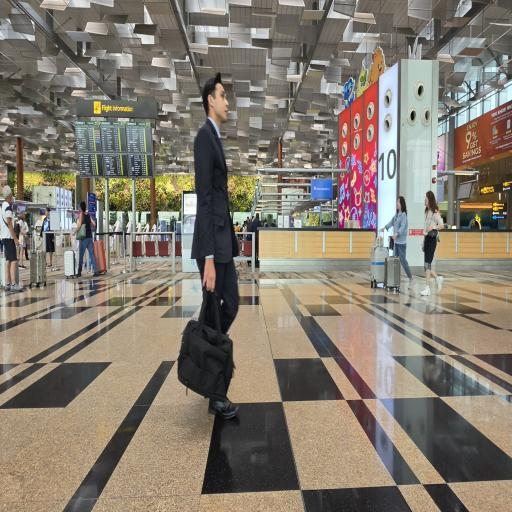person_left: (416, 183, 448, 301), (42, 204, 54, 262)
person_right: (178, 62, 249, 428), (18, 202, 28, 266)
person_with_luggage_left: (366, 184, 410, 288), (65, 198, 102, 280)
person_with_luggage_right: (0, 184, 18, 292)
